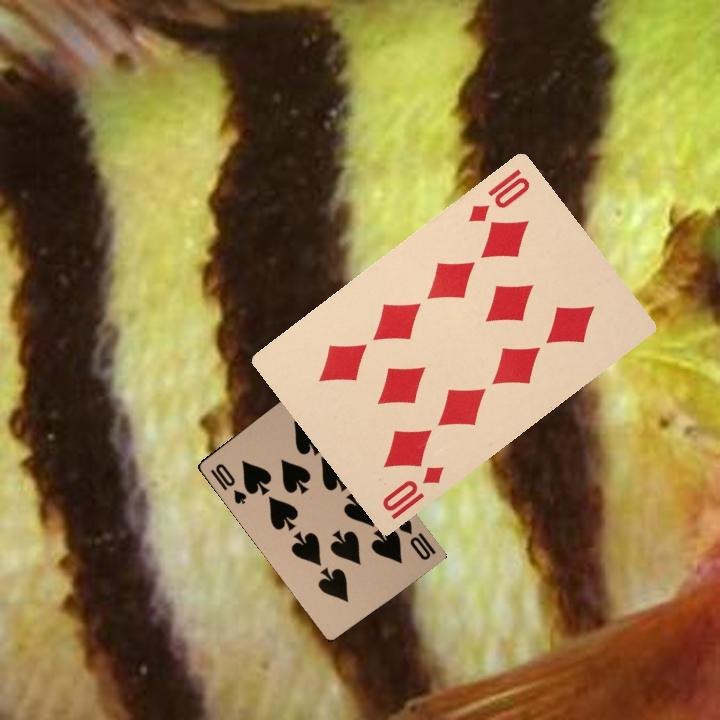10d: (464, 165, 533, 225), (378, 462, 446, 522)
10s: (394, 515, 438, 563), (206, 459, 249, 507)
